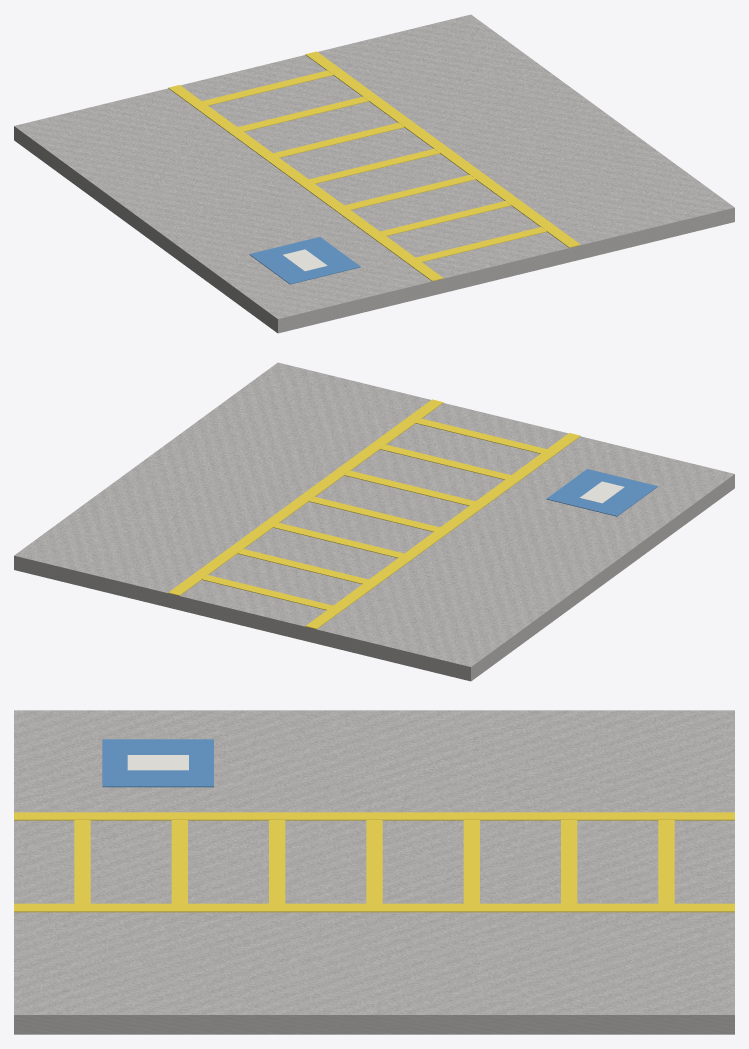
The model's file is marked-walkway-floor-tile-4-m.glb.
The picture shows the model from 3 angles, top to bottom: view 1: azimuth 30°, elevation 25°; view 2: azimuth 150°, elevation 25°; view 3: azimuth 270°, elevation 25°; orthographic projection. The views are drawn at different scales.
Parts seen in each view (by area): view 1: parcel-depot-and-sorting-hall-floor-marking-walkway-tile; view 2: parcel-depot-and-sorting-hall-floor-marking-walkway-tile; view 3: parcel-depot-and-sorting-hall-floor-marking-walkway-tile.
Boxes of the visible parts, box(x1,y1,x2,y2) form: parcel-depot-and-sorting-hall-floor-marking-walkway-tile: box(14, 14, 734, 333); parcel-depot-and-sorting-hall-floor-marking-walkway-tile: box(14, 362, 734, 681); parcel-depot-and-sorting-hall-floor-marking-walkway-tile: box(14, 710, 734, 1034).
Size of the model in its own units: 4 by 0.1261 by 4.
4 materials, 1 textured.
